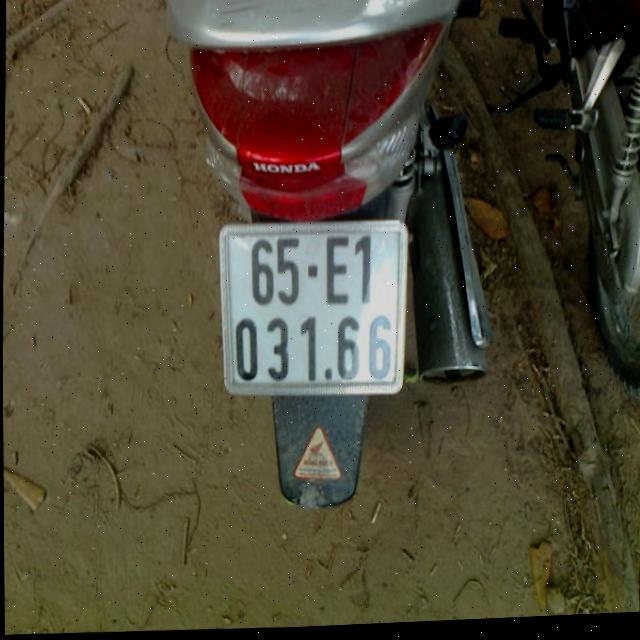motorcycle: (155, 0, 501, 521), (480, 0, 640, 410)
plate: (213, 211, 408, 403)
